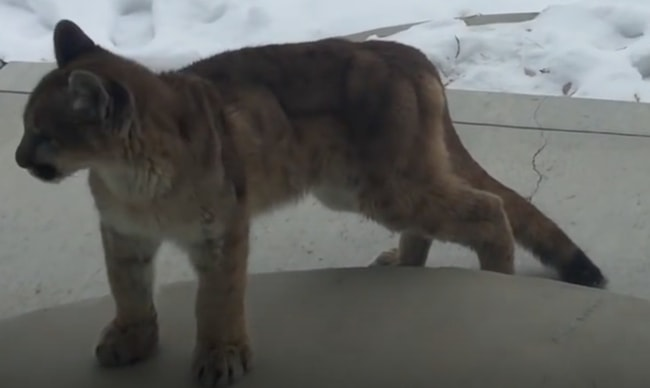Mountain Lion: (8, 13, 632, 367)
